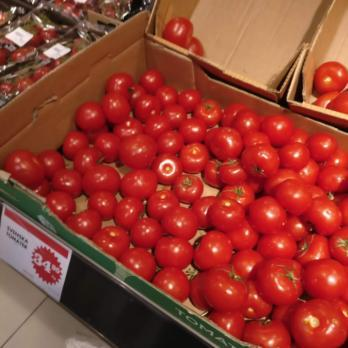Tomato: (90, 64, 217, 263), (208, 126, 302, 310), (295, 149, 348, 343), (312, 59, 347, 117), (166, 16, 195, 46)
